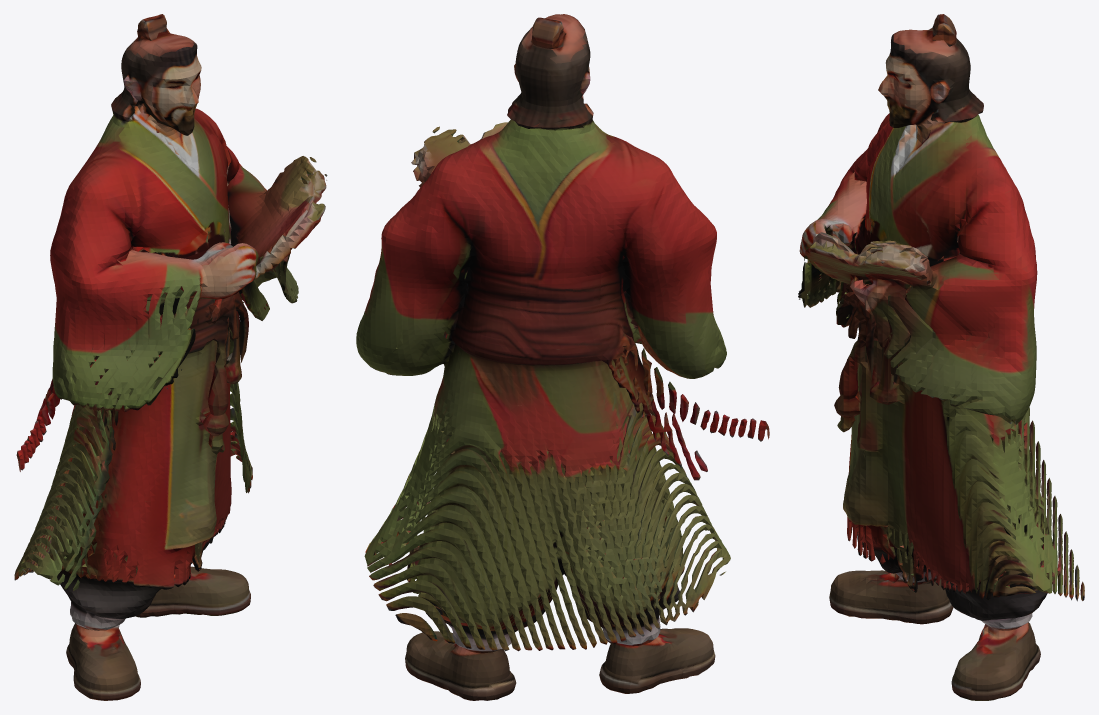
Rendered from body.glb.
The picture shows the model from 3 angles, left to right: view 1: azimuth 30°, elevation 25°; view 2: azimuth 150°, elevation 25°; view 3: azimuth 270°, elevation 25°; orthographic projection. The views are drawn at different scales.
Parts seen in each view (by area): view 1: geometry_0; view 2: geometry_0; view 3: geometry_0.
Part boxes in pixels (bbox=[...]): geometry_0: bbox=[14, 14, 327, 700]; geometry_0: bbox=[356, 14, 769, 700]; geometry_0: bbox=[798, 14, 1084, 700].
Bounding box in the file's own units: 1.08 × 1.96 × 0.8078.
Materials: 1 (1 with a texture image).
